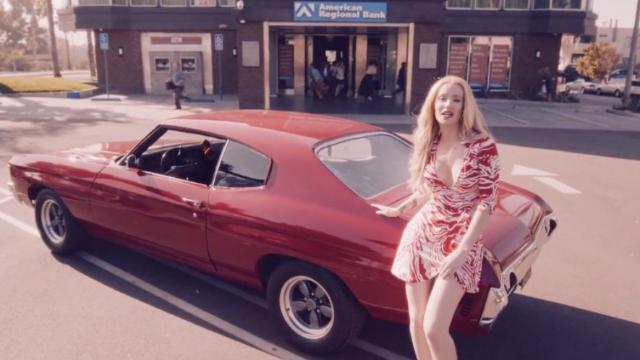chevelle-1972: (7, 111, 416, 353), (451, 183, 557, 333)
